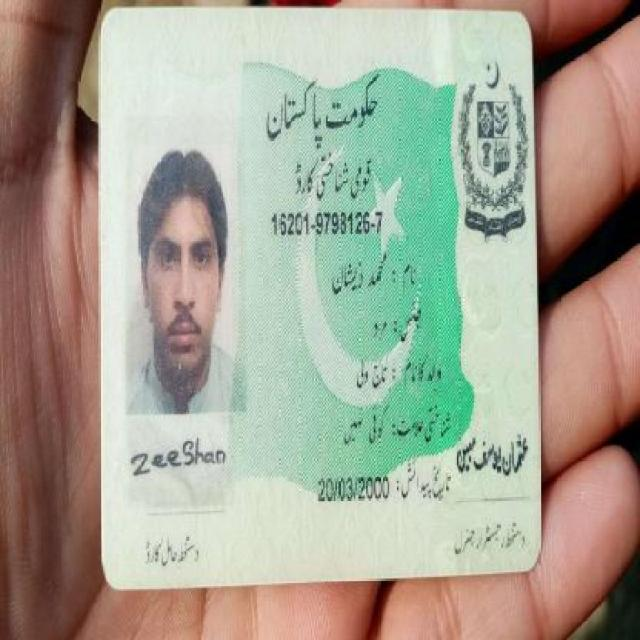Front: (92, 6, 546, 585)
